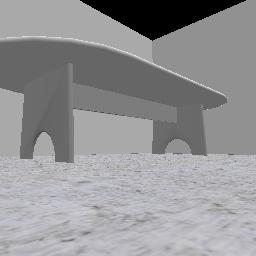masa: (0, 37, 226, 162)
